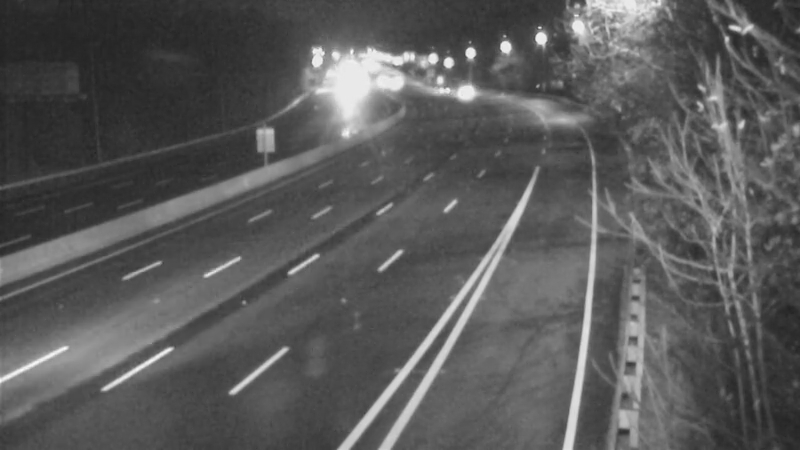vehicle: (422, 65, 472, 115), (440, 67, 490, 117)
